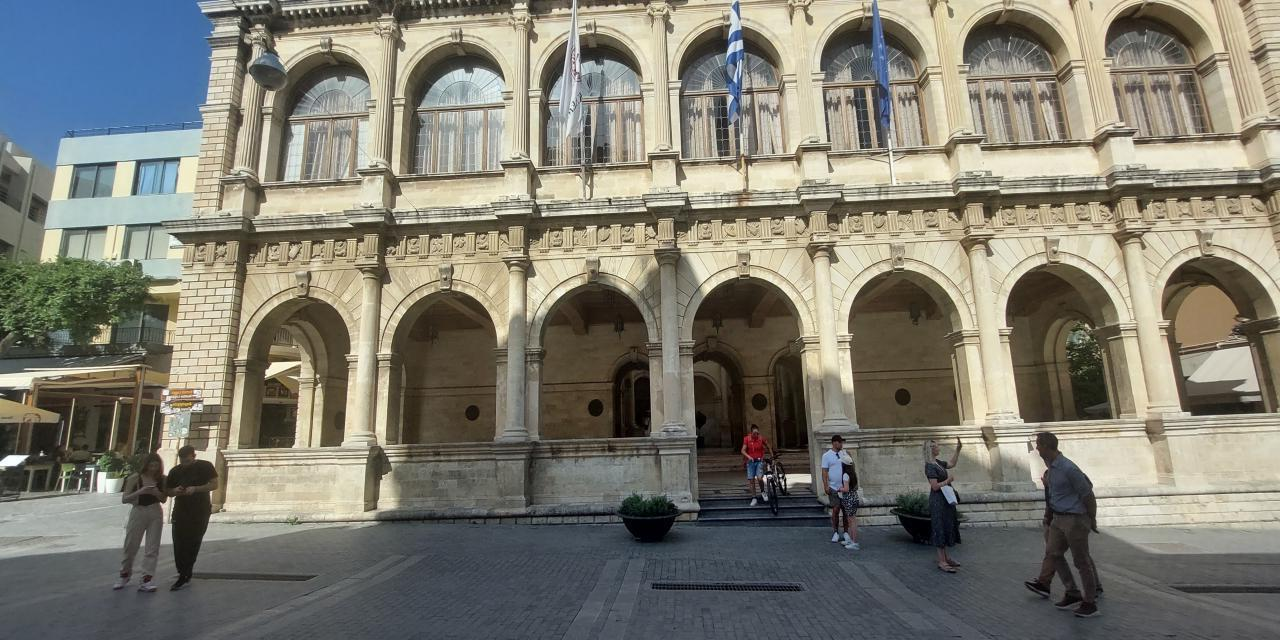Loggia: (133, 1, 1280, 517)
